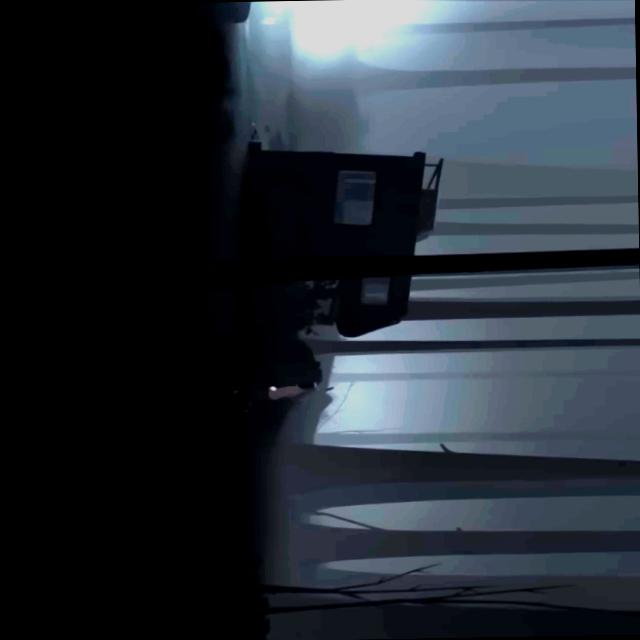boy: (223, 382, 320, 414)
